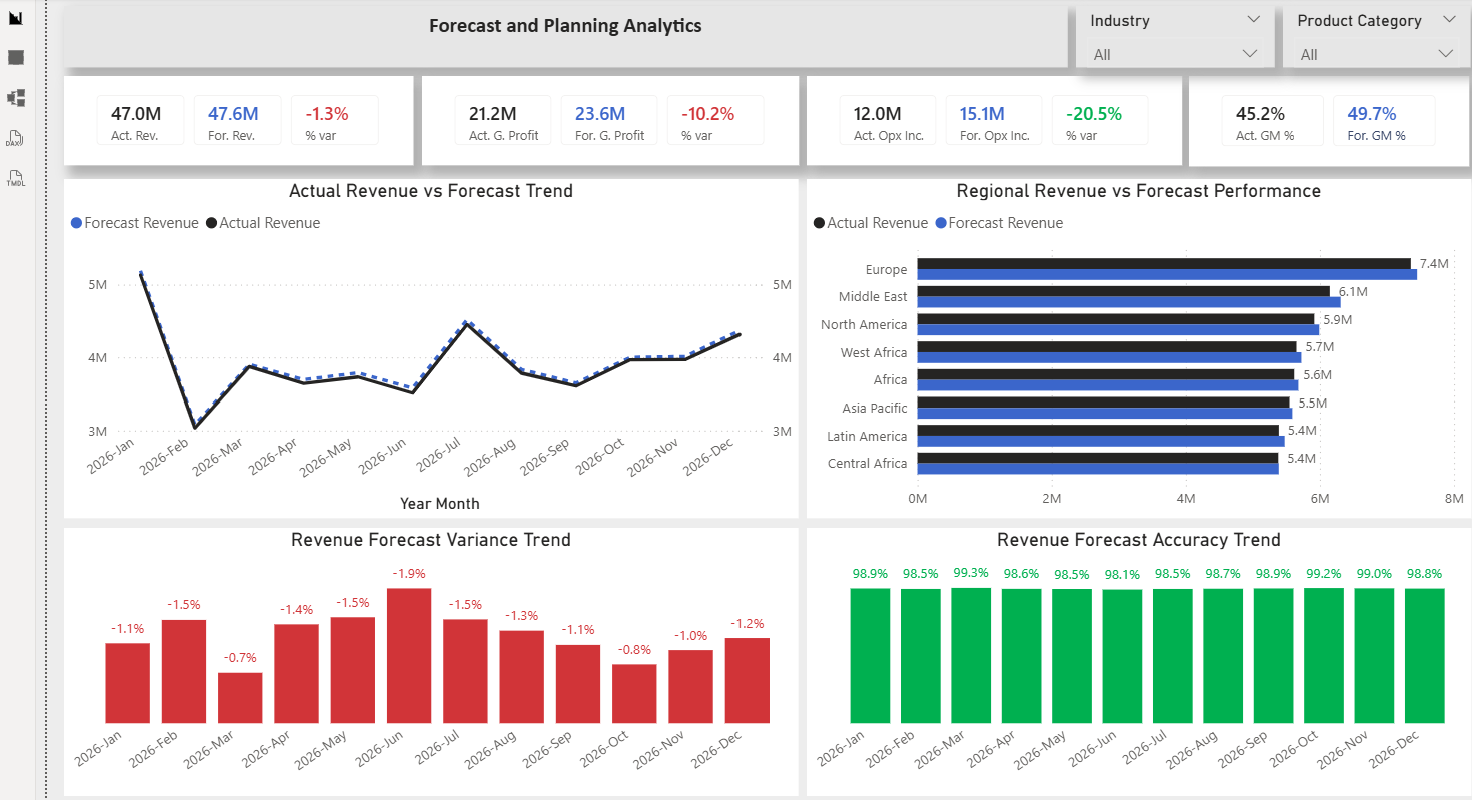

What the dashboard file says about the page in this screenshot:
{"tool":"powerbi","page":{"name":"Forecast and Planning Analysis","canvas":[1280,720],"ordinal":2},"visuals":[{"type":"textbox","box":[15.1,7.1,898,55.4],"z":0},{"type":"cardVisual","fields":{"Data":["vw_profitability_kpis.Total Revenue","vw_actual_vs_forecast.Forecast Revenue","vw_actual_vs_forecast.Rev. vs For variance %"]},"box":[15.1,69.5,313.4,79.6],"z":1000},{"type":"cardVisual","fields":{"Data":["vw_profitability_kpis.Gross Profit","vw_actual_vs_forecast.Forecast Gross Profit","vw_actual_vs_forecast.▲ GP %"]},"box":[335.6,69.5,336.6,79.6],"z":2000},{"type":"cardVisual","fields":{"Data":["vw_profitability_kpis.Operating Income","vw_actual_vs_forecast.For. Operating Inc.","vw_actual_vs_forecast.OP ▲ actual %"]},"box":[679.3,69.5,335.6,79.6],"z":3000},{"type":"cardVisual","fields":{"Data":["vw_profitability_kpis.Gross Margin %","vw_actual_vs_forecast.For. Gross Margin %"]},"box":[1022,69.5,251,80.6],"z":4000},{"type":"lineChart","title":"Actual Revenue vs Forecast Trend ","fields":{"Y":["vw_actual_vs_forecast.Forecast Revenue"],"Category":["dim_date.Year Month"],"Y2":["vw_profitability_kpis.Total Revenue"]},"box":[15.1,162.3,657.1,303.4],"z":5000},{"type":"slicer","title":"Region","fields":{"Values":["dim_customer.industry"]},"box":[920.2,7.1,178.4,55.4],"z":6000},{"type":"slicer","title":"Product Category","fields":{"Values":["dim_product.category"]},"box":[1105.6,7.1,168.3,55.4],"z":7000},{"type":"clusteredColumnChart","title":"Revenue Forecast Variance Trend","fields":{"Category":["dim_date.Year Month"],"Y":["vw_actual_vs_forecast.Rev. vs For variance %"]},"box":[15.1,473.7,657.1,239.9],"z":8000},{"type":"clusteredColumnChart","title":"Revenue Forecast Accuracy Trend","fields":{"Category":["dim_date.Year Month"],"Y":["vw_profitability_kpis.Revenue Forecast Accuracy %"]},"box":[679.3,473.7,594.6,239.9],"z":9000},{"type":"clusteredBarChart","title":"Regional Revenue vs Forecast Performance","fields":{"Category":["dim_region.region_name"],"Y":["vw_profitability_kpis.Total Revenue","vw_actual_vs_forecast.Forecast Revenue"]},"box":[679.3,162.3,594.6,303.4],"z":10000}]}

Visuals, with their boxes on the page's 1280x720 design canvas (x1, y1, x2, y2). These are canvas units, not pixel positions in the 1472x800 screenshot, which may show the page scaled, cropped or inside an application window:
textbox: {"x1": 15, "y1": 7, "x2": 913, "y2": 62}
cardVisual - vw_profitability_kpis.Total Revenue x vw_actual_vs_forecast.Forecast Revenue: {"x1": 15, "y1": 70, "x2": 328, "y2": 149}
cardVisual - vw_profitability_kpis.Gross Profit x vw_actual_vs_forecast.Forecast Gross Profit: {"x1": 336, "y1": 70, "x2": 672, "y2": 149}
cardVisual - vw_profitability_kpis.Operating Income x vw_actual_vs_forecast.For. Operating Inc.: {"x1": 679, "y1": 70, "x2": 1015, "y2": 149}
cardVisual - vw_profitability_kpis.Gross Margin % x vw_actual_vs_forecast.For. Gross Margin %: {"x1": 1022, "y1": 70, "x2": 1273, "y2": 150}
"Actual Revenue vs Forecast Trend " lineChart: {"x1": 15, "y1": 162, "x2": 672, "y2": 466}
"Region" slicer: {"x1": 920, "y1": 7, "x2": 1099, "y2": 62}
"Product Category" slicer: {"x1": 1106, "y1": 7, "x2": 1274, "y2": 62}
"Revenue Forecast Variance Trend" clusteredColumnChart: {"x1": 15, "y1": 474, "x2": 672, "y2": 714}
"Revenue Forecast Accuracy Trend" clusteredColumnChart: {"x1": 679, "y1": 474, "x2": 1274, "y2": 714}
"Regional Revenue vs Forecast Performance" clusteredBarChart: {"x1": 679, "y1": 162, "x2": 1274, "y2": 466}
